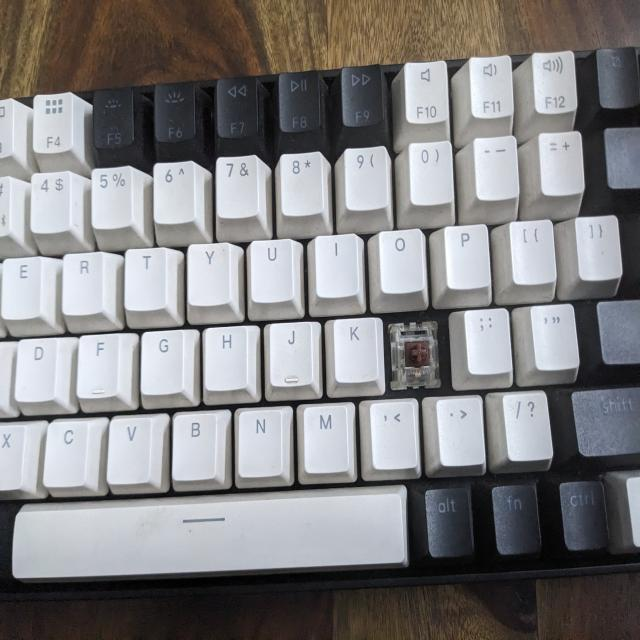key-switch: (388, 318, 443, 386)
